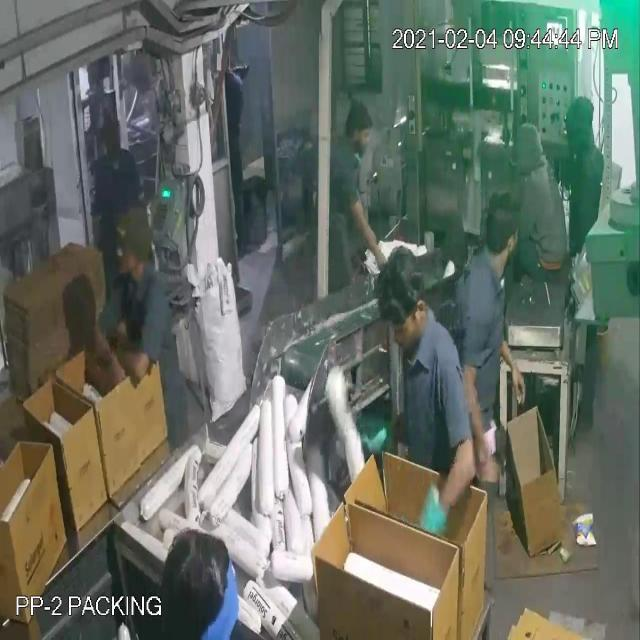No_Gloves: (34, 49, 513, 515)
